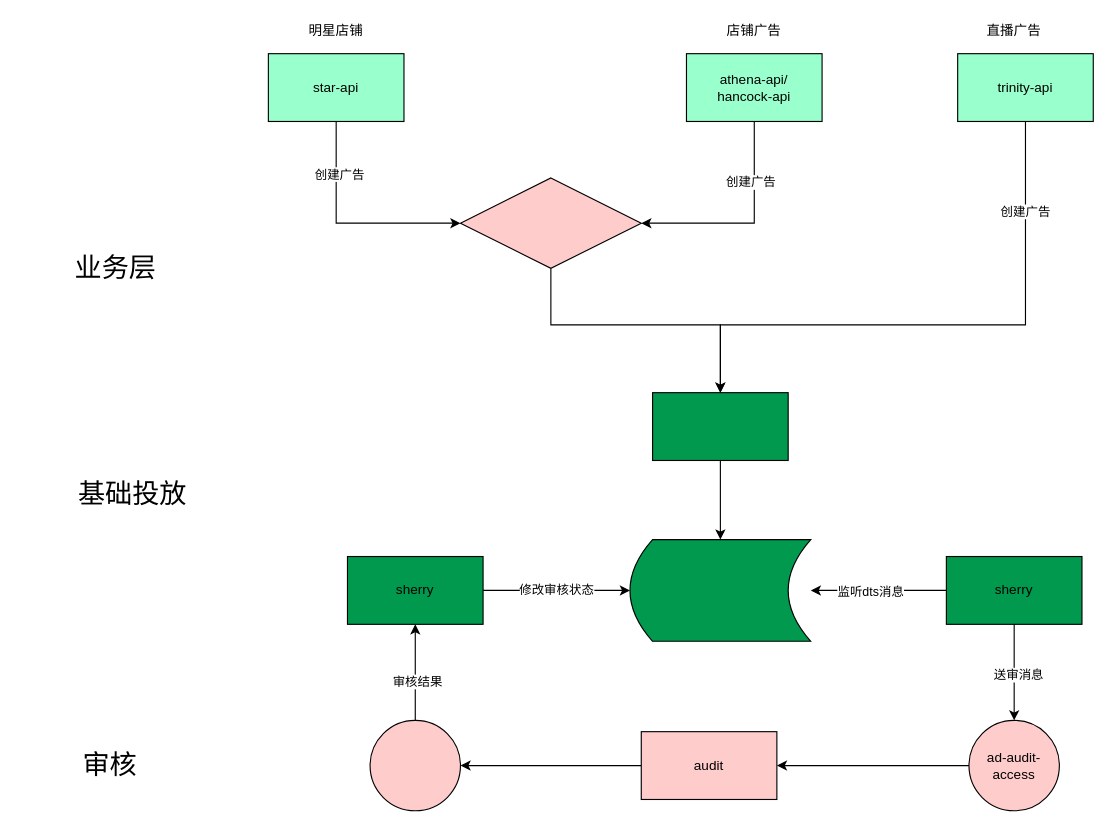
This 1113x831 diagram has some shape labels left out. The shapes that lost their labels are listed below. From the top down, each one's centre as x and y in pixels, then its label:
At (550,222): "security 广告主限制过滤".
At (719,426): "hydra-api".
At (720,589): "ad_biz_db".
At (414,765): "ad-audit-result".
